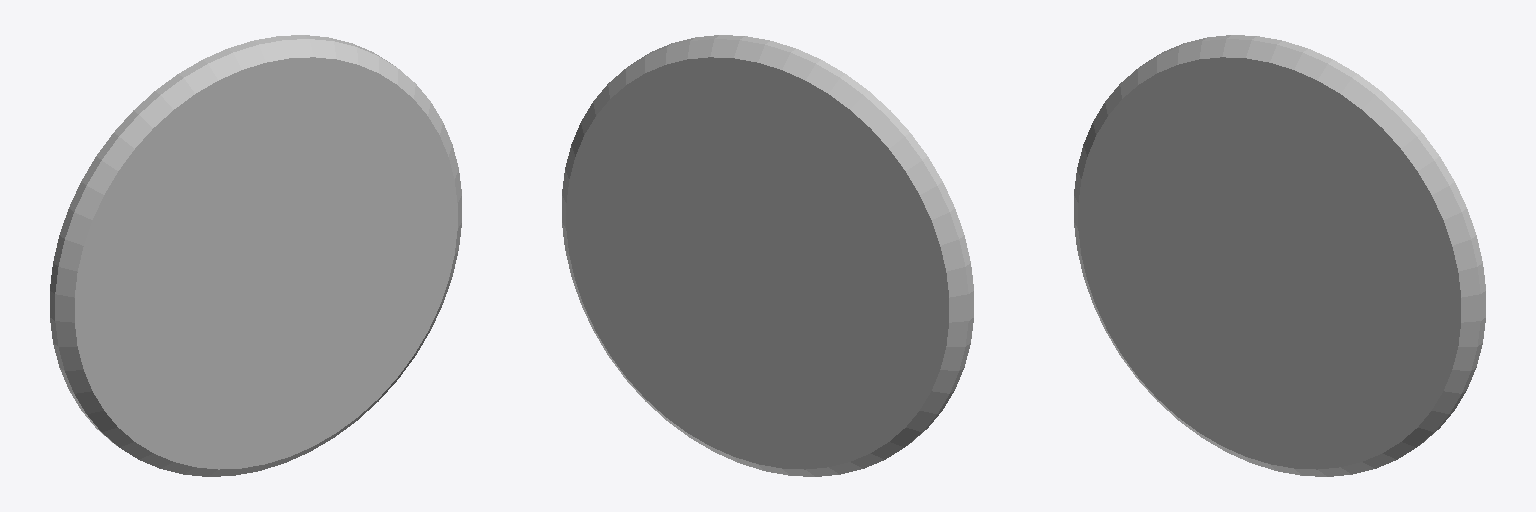
File: lollipopbase.obj
3 views of the same model, side by side, from view 1: azimuth 30°, elevation 25°; view 2: azimuth 150°, elevation 25°; view 3: azimuth 330°, elevation 25° (orthographic).
Visible parts, largest first — view 1: <STL_BINARY>; view 2: <STL_BINARY>; view 3: <STL_BINARY>.
Boxes of the visible parts, x1,y1,x2,y2 form: <STL_BINARY>: [50, 35, 461, 476]; <STL_BINARY>: [562, 35, 973, 476]; <STL_BINARY>: [1074, 35, 1485, 476].
Size of the model in its own units: 247 by 247 by 21.32.